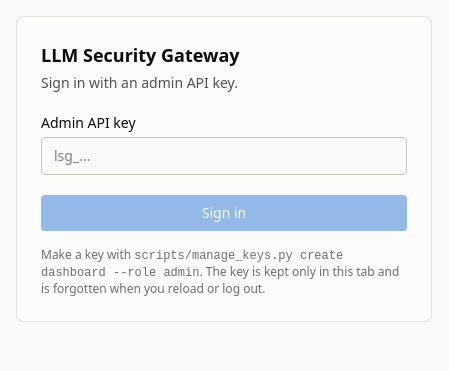
Test: signing in › says when the key is only a client key
This screenshot has width=449, height=371.
In the password field labelled "Admin API key": x=224, y=156 [41,137,407,175], type "lsg_client"
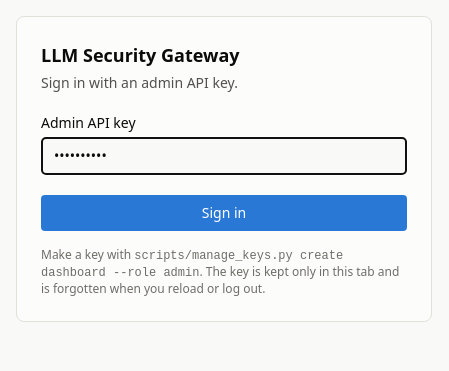
Click the button "Sign in": x=224, y=213 [41,195,407,231]
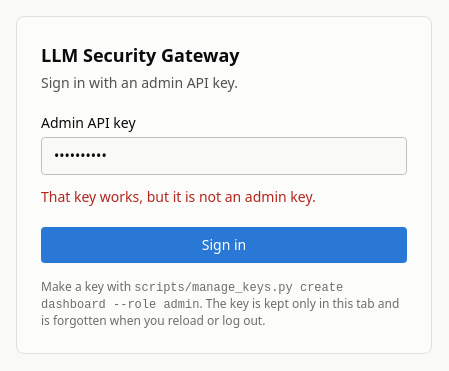
Expected: the message shows "not an admin key", [41,187,316,206]
